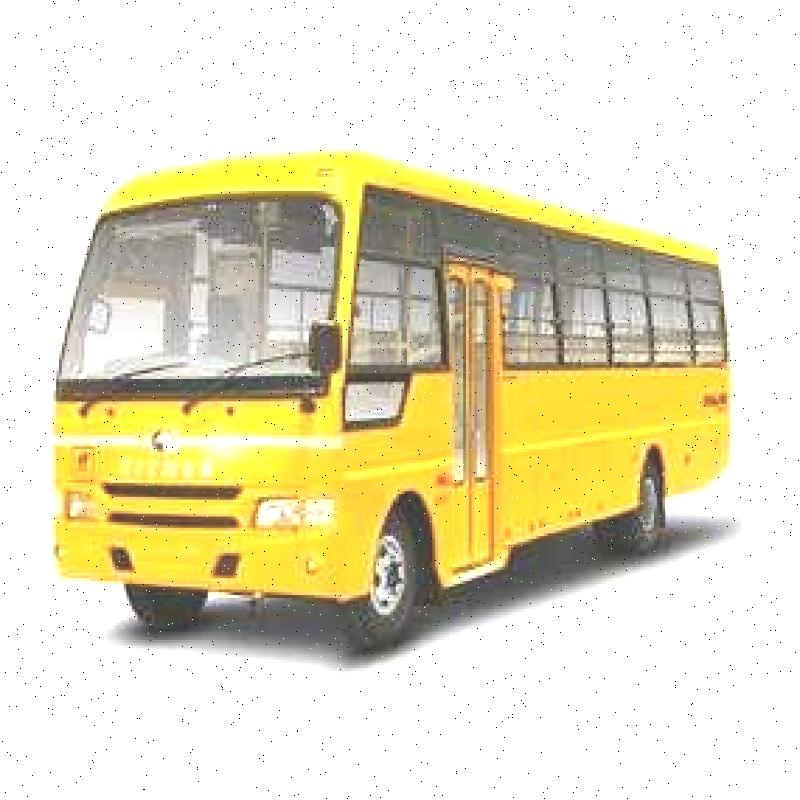bus: (37, 136, 746, 635)
